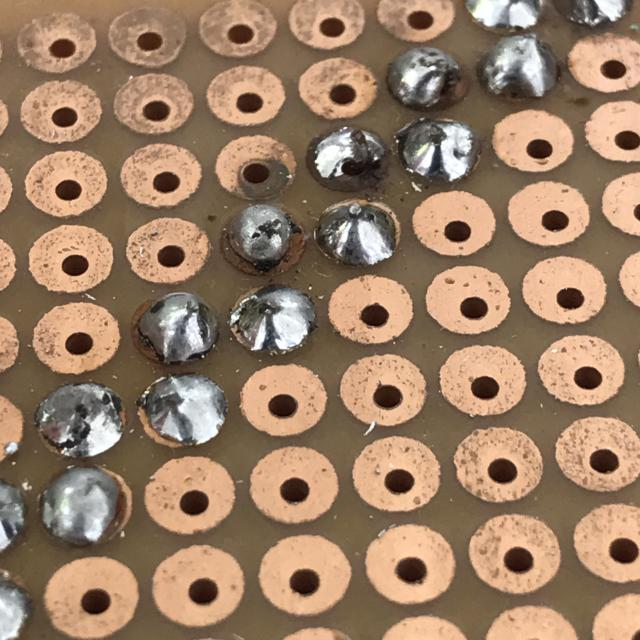pad_less: (33, 453, 141, 558), (215, 272, 327, 364), (131, 364, 238, 459), (28, 374, 134, 466), (119, 282, 225, 369), (214, 197, 316, 282), (307, 191, 409, 274), (299, 117, 395, 197)
